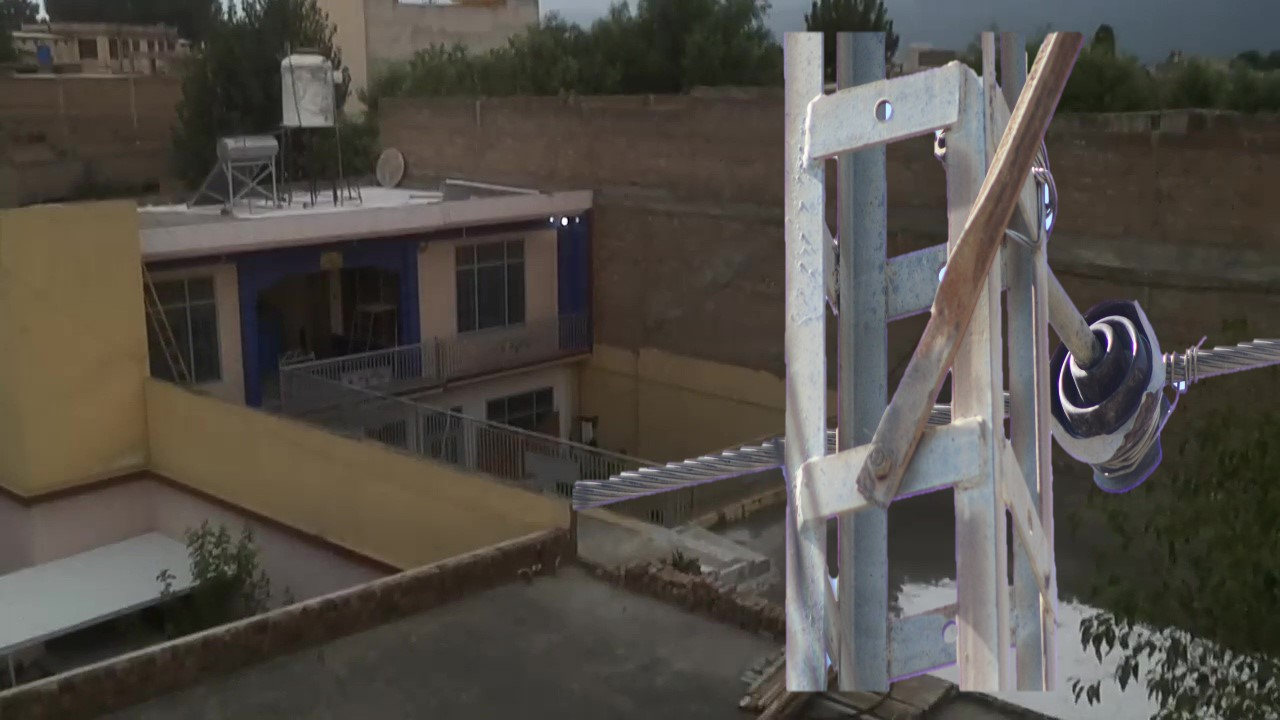defect_pin: (1046, 290, 1184, 504)
